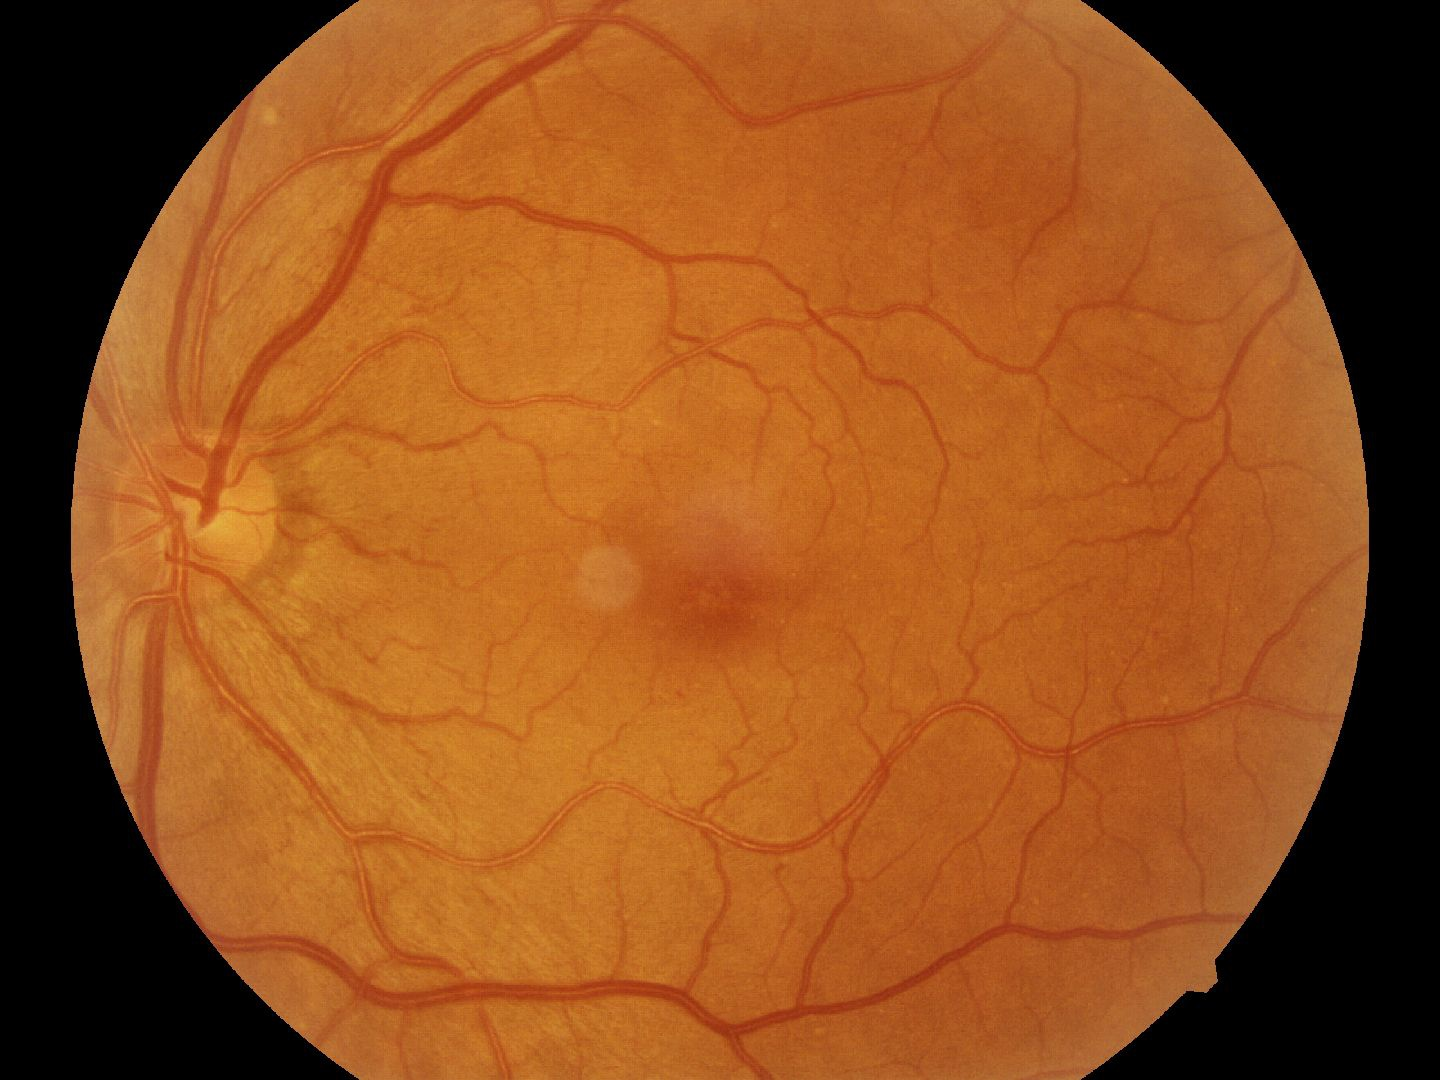Hemorrhages: (599, 513, 791, 663)
Optic-Disc: (119, 410, 286, 615)
Venules: (348, 927, 786, 1057), (244, 101, 409, 388)
